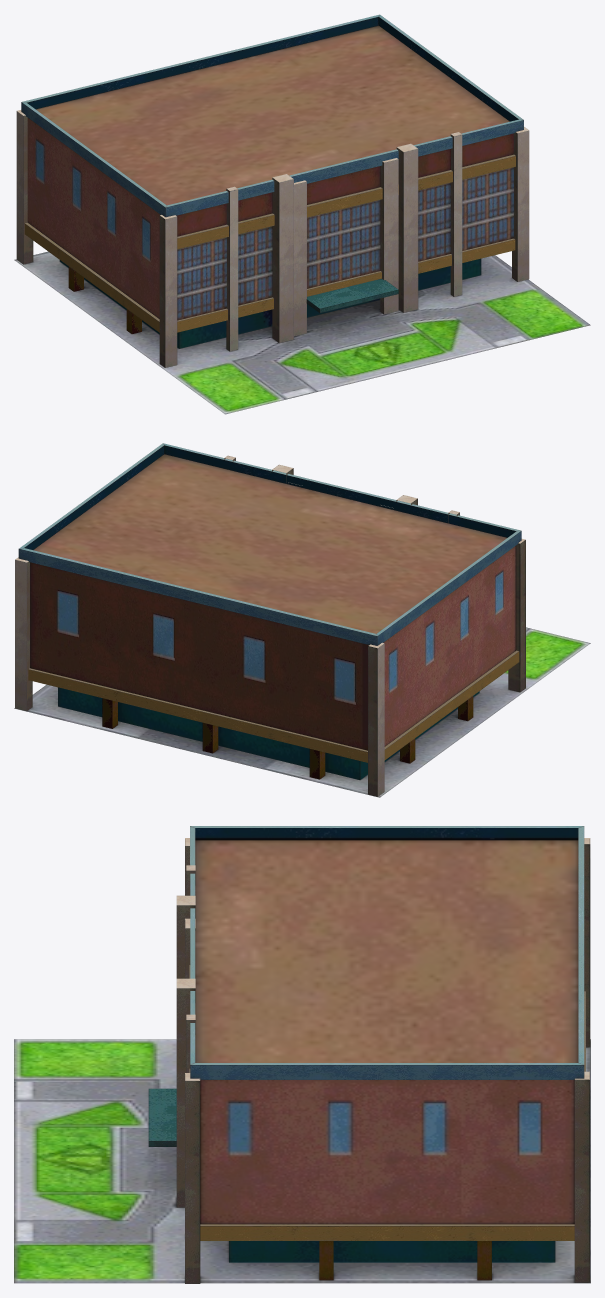
File: house_04.obj
The picture shows the model from 3 angles, top to bottom: view 1: azimuth 30°, elevation 25°; view 2: azimuth 150°, elevation 25°; view 3: azimuth 270°, elevation 25°; orthographic projection. The views are drawn at different scales.
Visible parts, largest first — view 1: jumindi03; view 2: jumindi03; view 3: jumindi03.
Part boxes in pixels (x1=…): jumindi03: x1=14, y1=14, x2=590, y2=414; jumindi03: x1=14, y1=443, x2=590, y2=797; jumindi03: x1=14, y1=826, x2=590, y2=1283.
Size of the model in its own units: 5.09 by 2.14 by 5.08.
